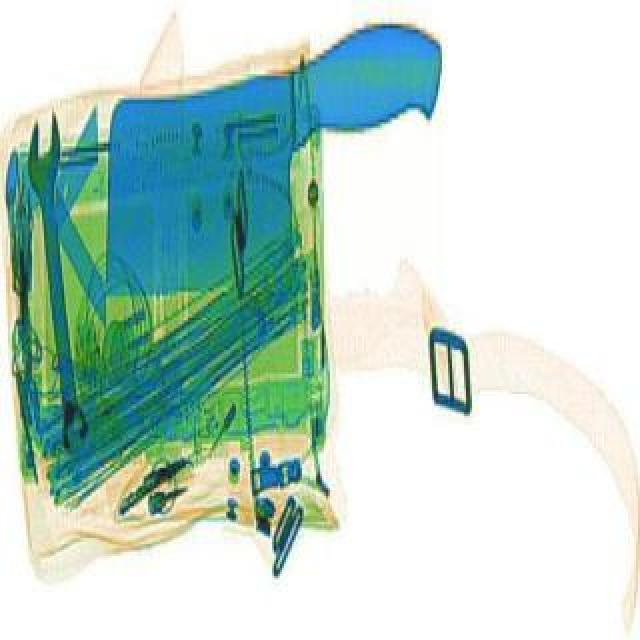knife: (88, 16, 452, 292)
scissors: (20, 110, 88, 450)
